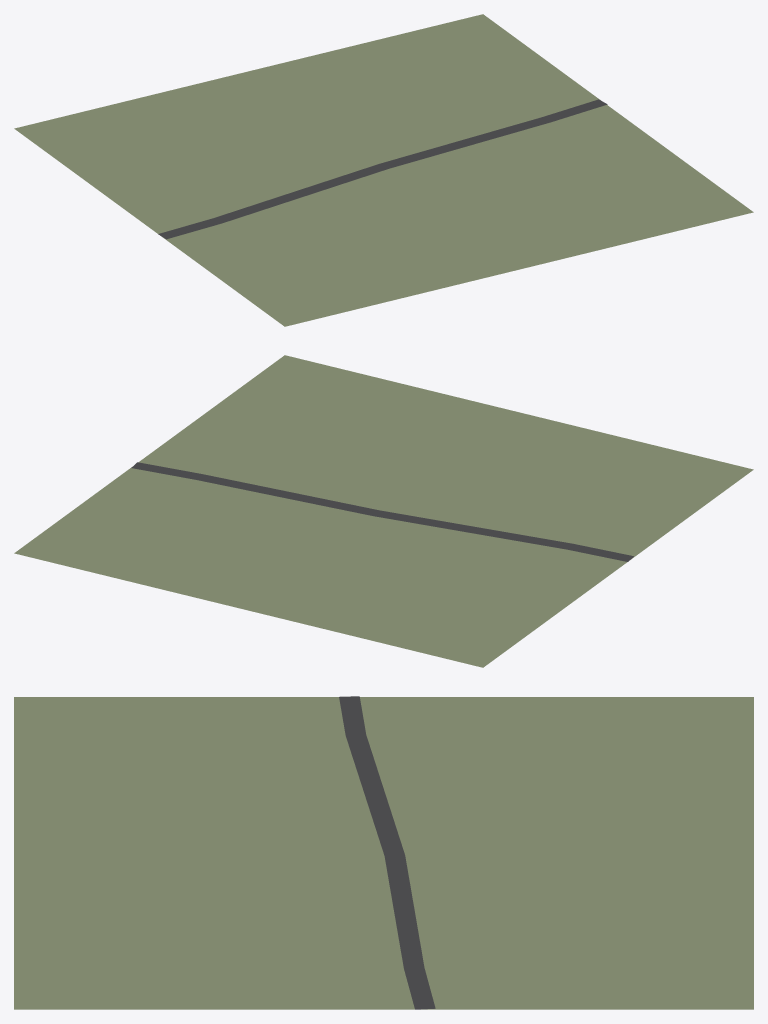
The picture shows the model from 3 angles, top to bottom: view 1: azimuth 30°, elevation 25°; view 2: azimuth 150°, elevation 25°; view 3: azimuth 270°, elevation 25°; orthographic projection. The views are drawn at different scales.
Visible parts, largest first — view 1: ground, road; view 2: ground, road; view 3: ground, road.
Boxes of the visible parts, x1=… form: ground: x1=14, y1=14, x2=753, y2=326; road: x1=158, y1=99, x2=607, y2=239; ground: x1=14, y1=355, x2=753, y2=667; road: x1=131, y1=462, x2=633, y2=561; ground: x1=14, y1=697, x2=753, y2=1009; road: x1=339, y1=696, x2=435, y2=1009.
Size of the model in its own units: 251 by 0.12 by 250.
